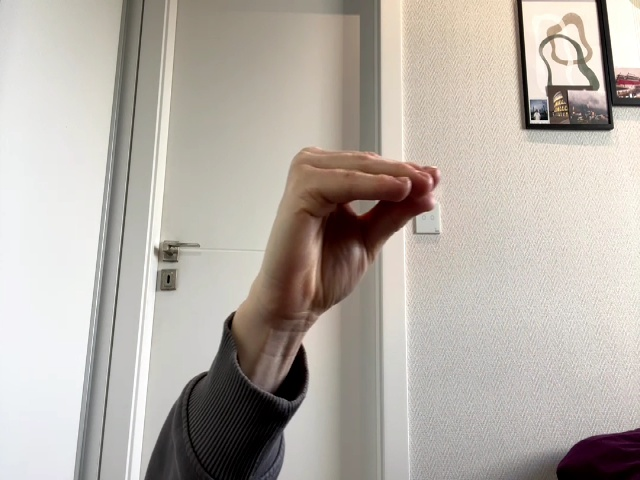E: (270, 147, 440, 308)
